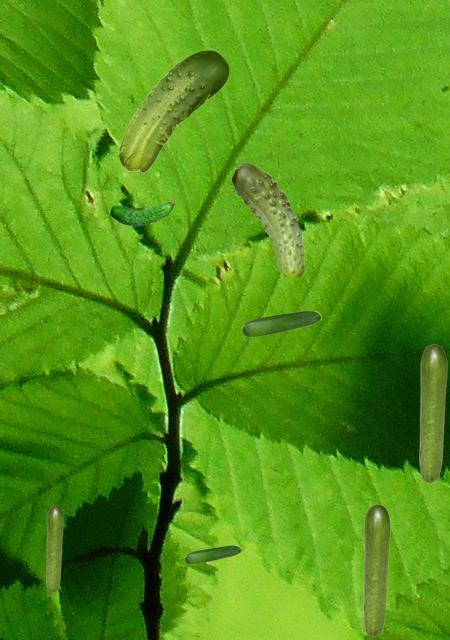cucumber: (118, 50, 228, 171), (231, 162, 305, 275), (419, 344, 446, 482), (363, 504, 389, 636), (241, 310, 320, 336), (109, 197, 174, 225), (46, 505, 62, 592), (184, 545, 240, 563)
